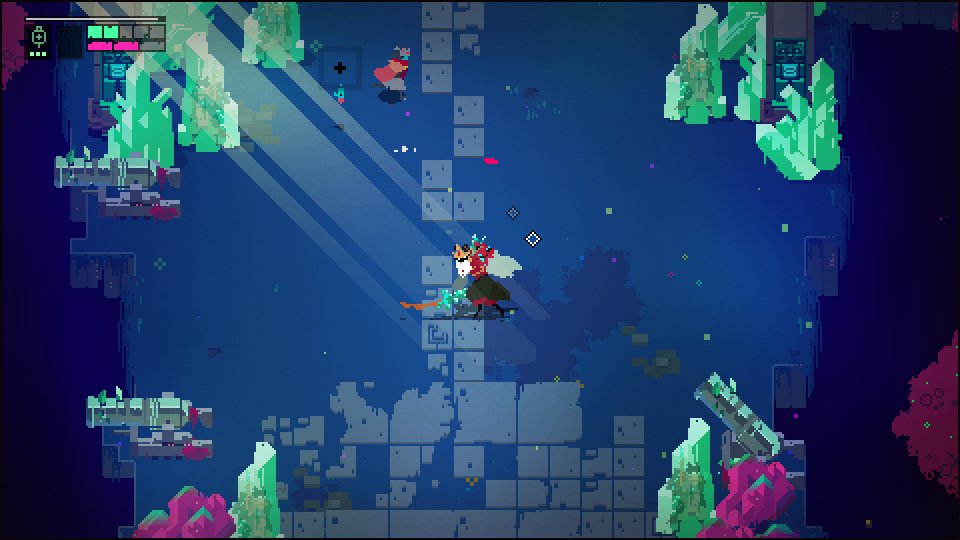hanged_man: (428, 232, 525, 325)
player: (372, 46, 415, 101)
